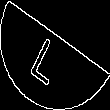L_NE: (34, 25, 76, 85)
